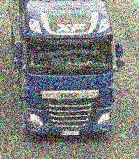truck: (9, 0, 125, 138)
